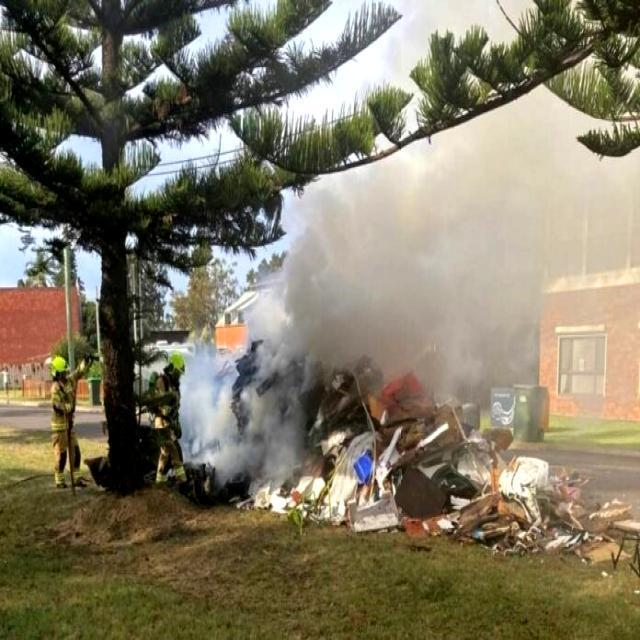Smoke: (173, 80, 634, 533)
